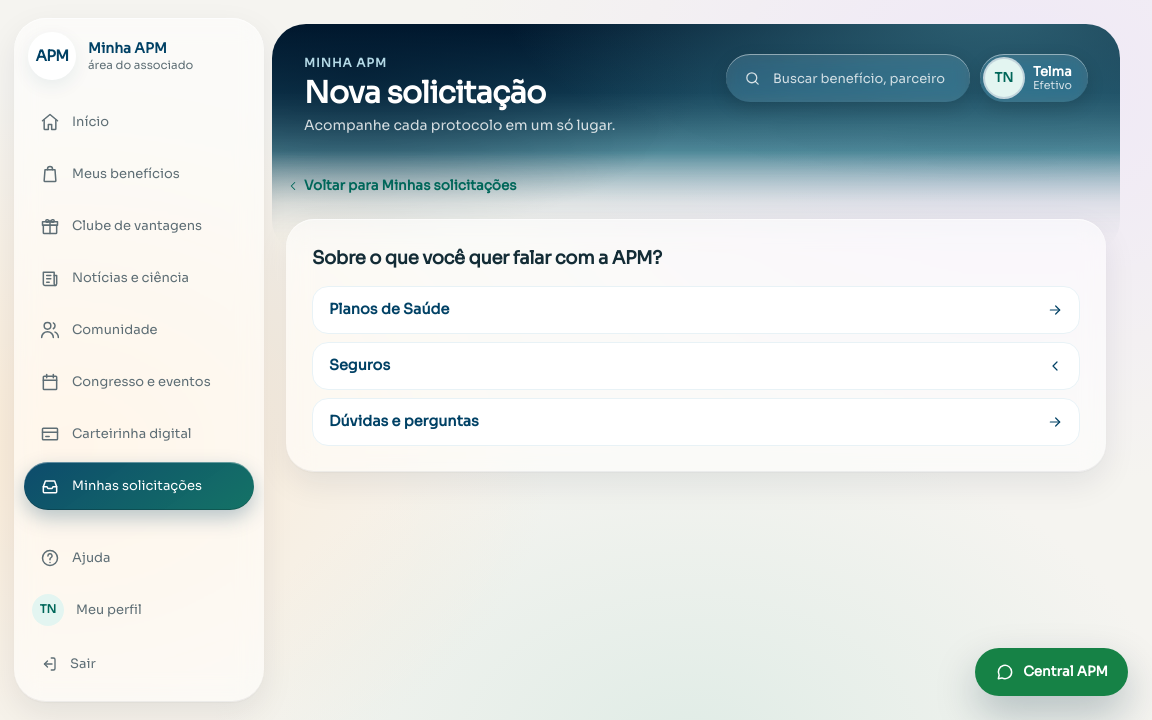
Test: Nova solicitação — catálogo comum com o App (ADR-0024) › escolhe um seguro dentro do grupo, envia o texto e leva ao acompanhamento
Expected: the button "Seguro Auto" is not shown
Click the button "Seguros".
click(360, 365)  # box x1=312 y1=342 x2=1080 y2=390
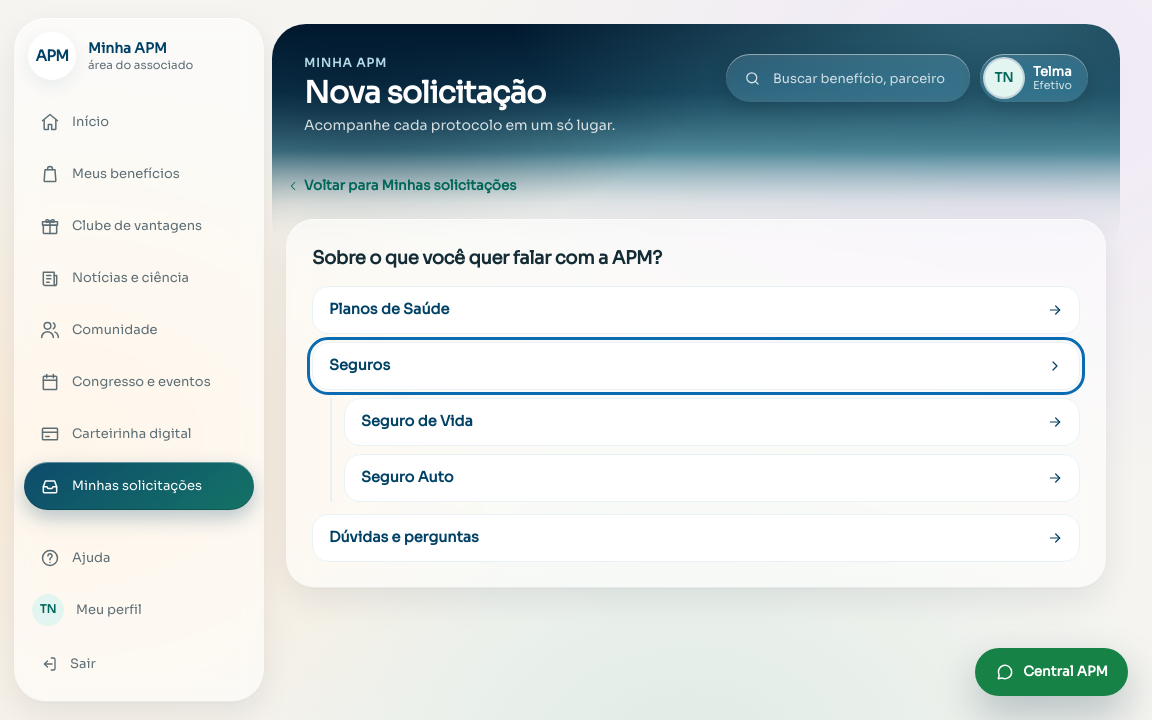
Now the button "Seguros" is expanded, box x1=312 y1=342 x2=1080 y2=390
Click the button "Seguro Auto".
click(407, 477)  # box x1=344 y1=454 x2=1080 y2=502
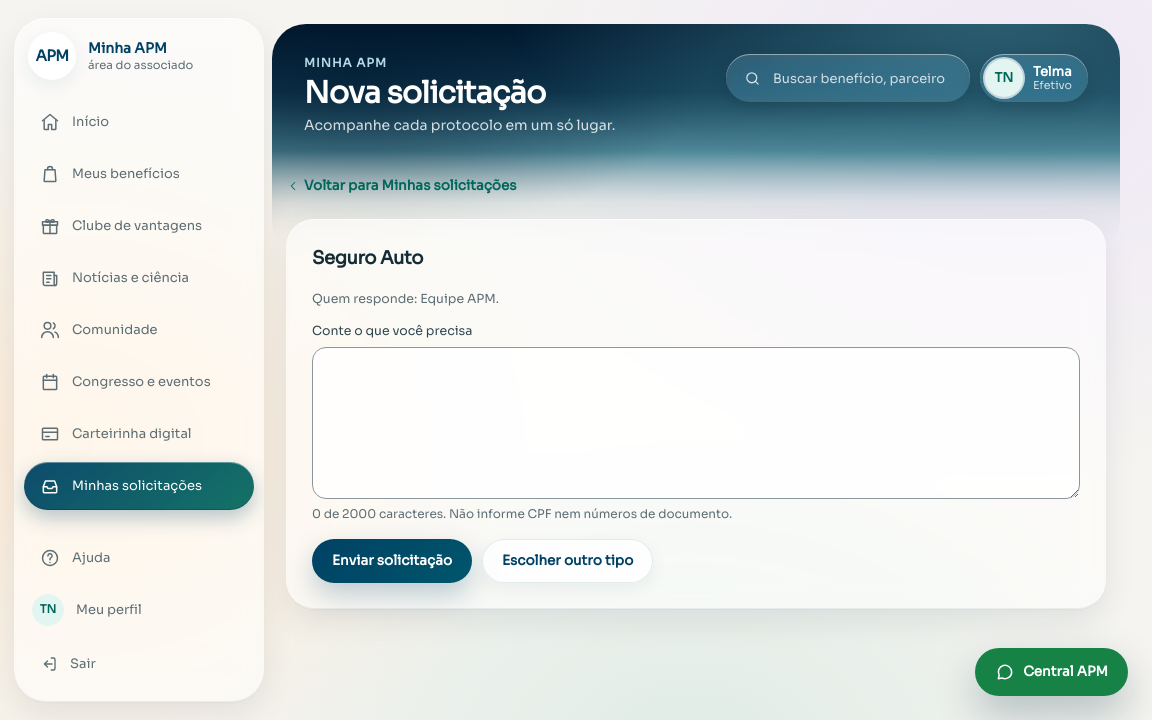
Now the text "Quem responde: Equipe APM." is shown, box x1=312 y1=291 x2=499 y2=307
Type "curto" into the text box labelled "Conte o que você precisa".
click(696, 423); type("curto")  # box x1=312 y1=347 x2=1080 y2=499
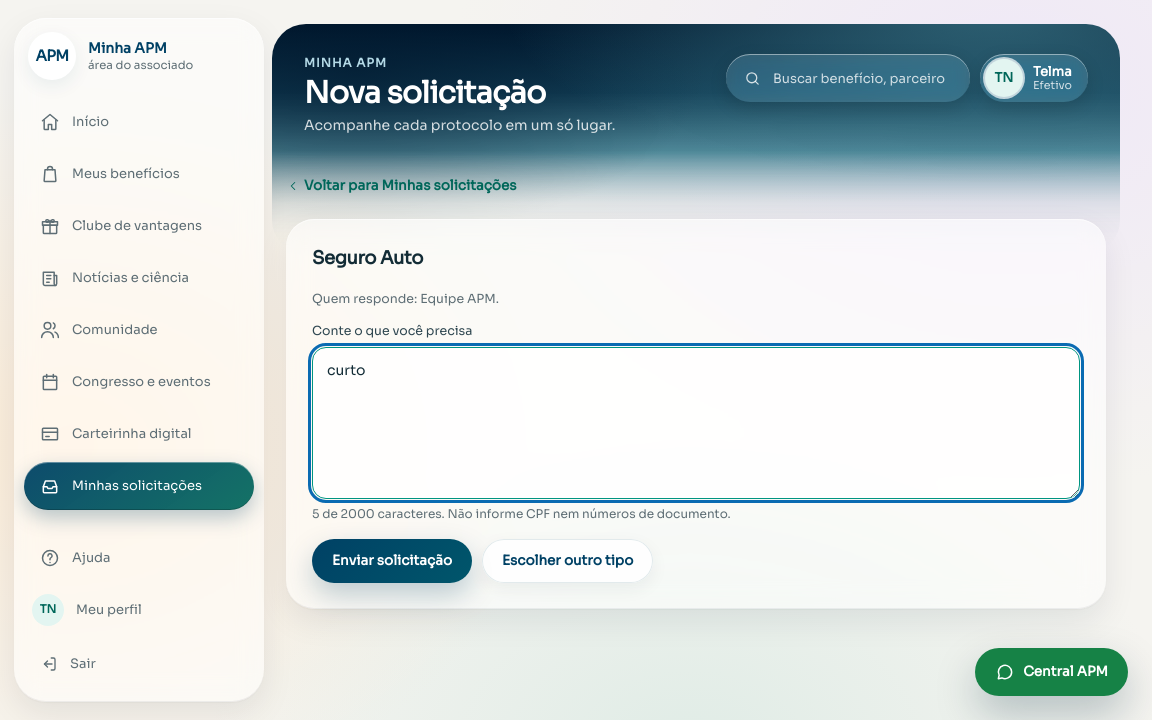
Click the button "Enviar solicitação".
click(392, 561)  # box x1=312 y1=539 x2=472 y2=583
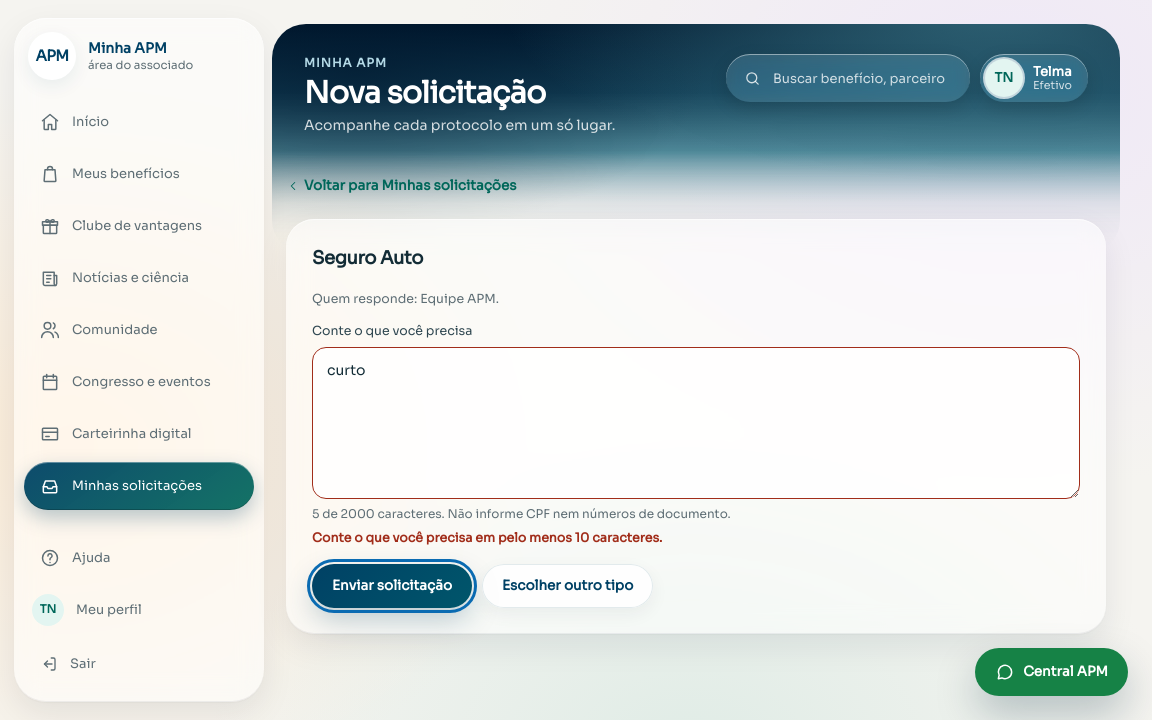
Now the text "Conte o que você precisa em pelo menos 10 caracteres." is shown, box x1=312 y1=530 x2=662 y2=546
Replace the text in the text box labelled "Conte o que você precisa" with "  Quero uma cotação para o meu carro.  " at (696, 423), box x1=312 y1=347 x2=1080 y2=499
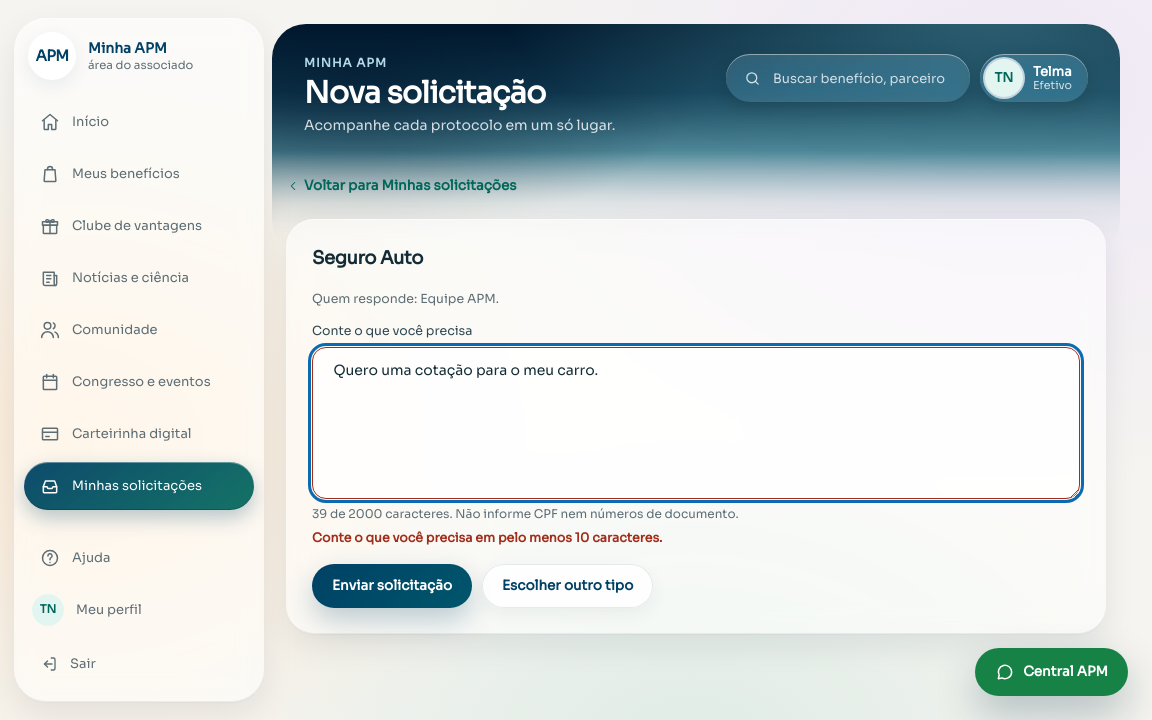
Now the text "de 2000 caracteres" is shown, box x1=312 y1=506 x2=738 y2=521
Click the button "Enviar solicitação".
click(392, 586)  # box x1=312 y1=564 x2=472 y2=608
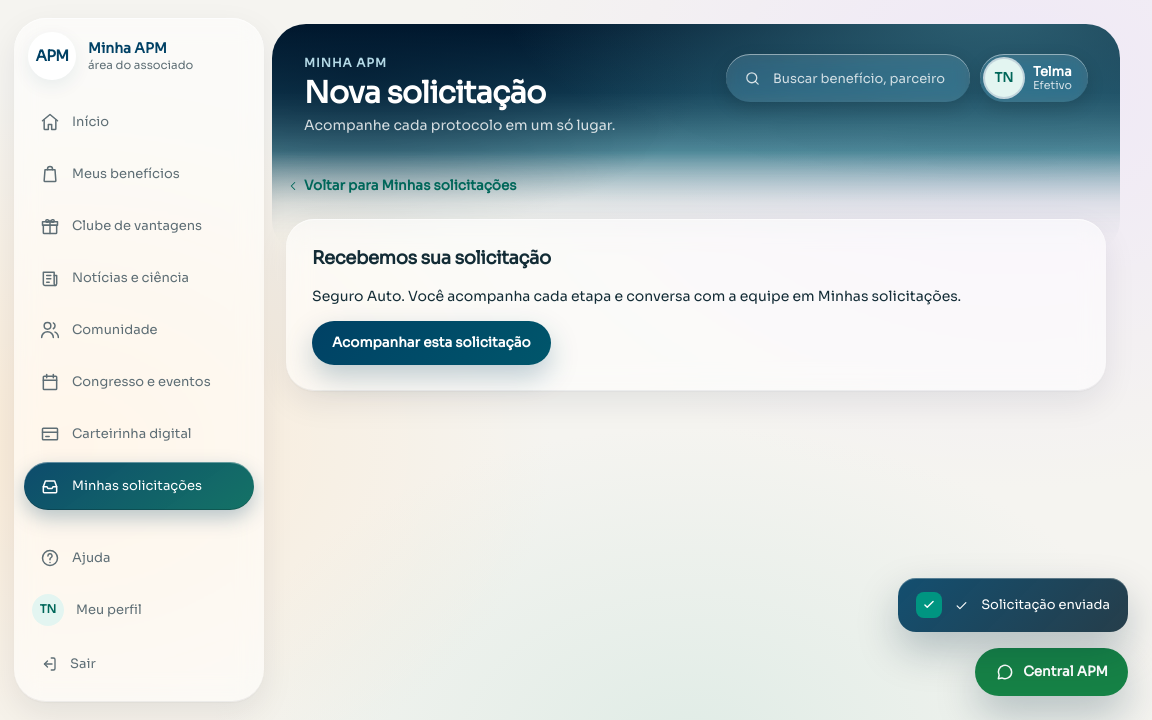
Now the heading "Recebemos sua solicitação" is shown, box x1=312 y1=247 x2=551 y2=269
